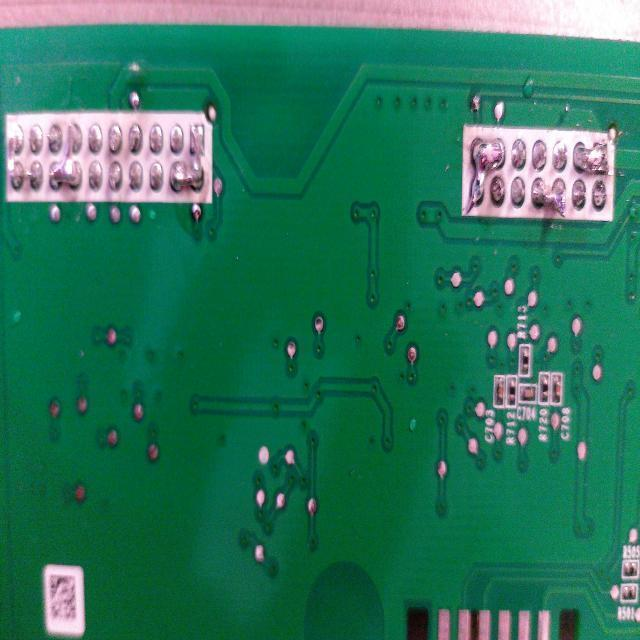Soldering shorted: (466, 130, 508, 214), (168, 115, 207, 193), (6, 116, 46, 188), (48, 118, 86, 190), (572, 131, 612, 182), (532, 170, 568, 220)
